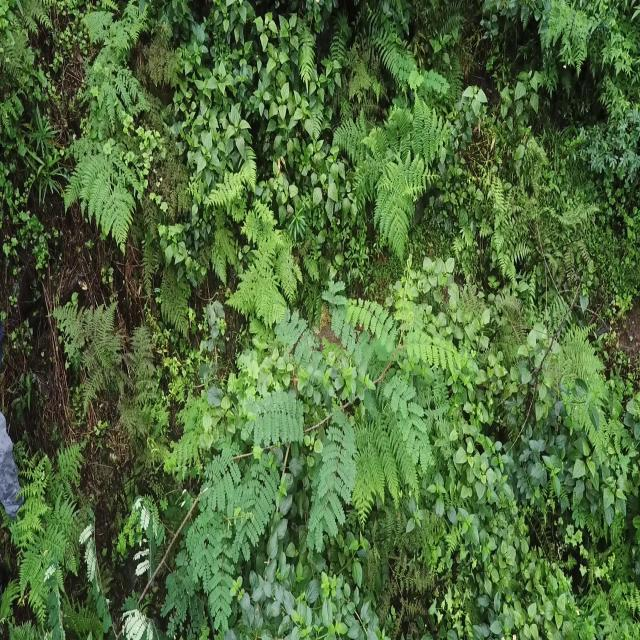Mysore-Thorn-Weed: (156, 268, 456, 629)
